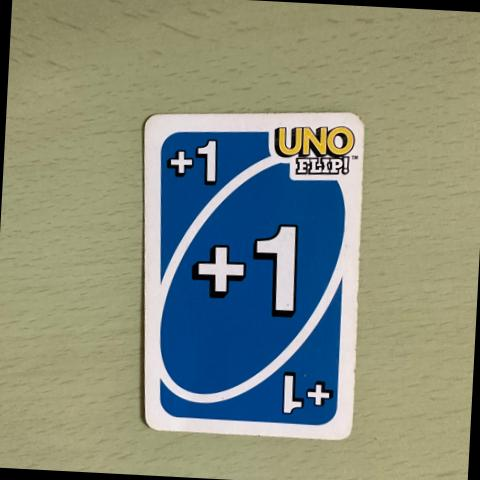lblue-10: (156, 122, 234, 210)
